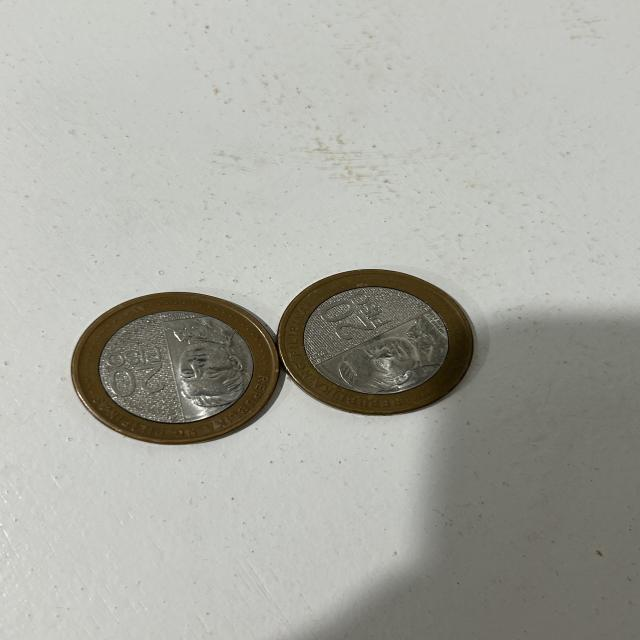20_New_Front: (95, 346, 173, 410), (316, 289, 394, 338)
